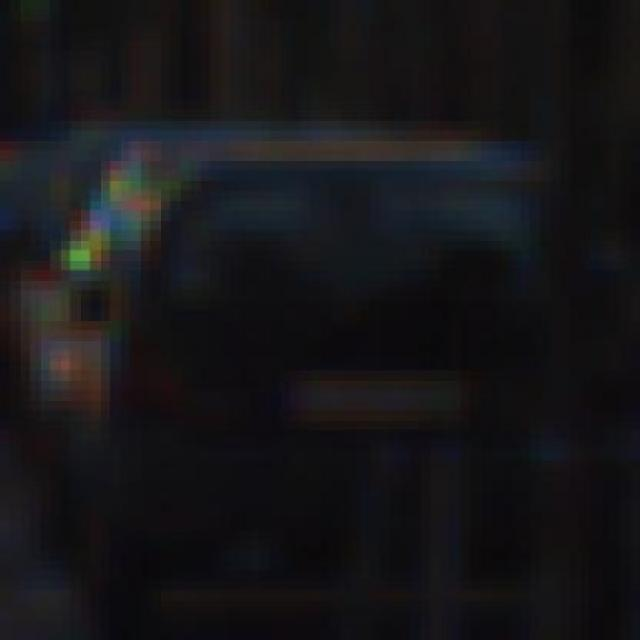vehicle: (0, 100, 630, 630)
